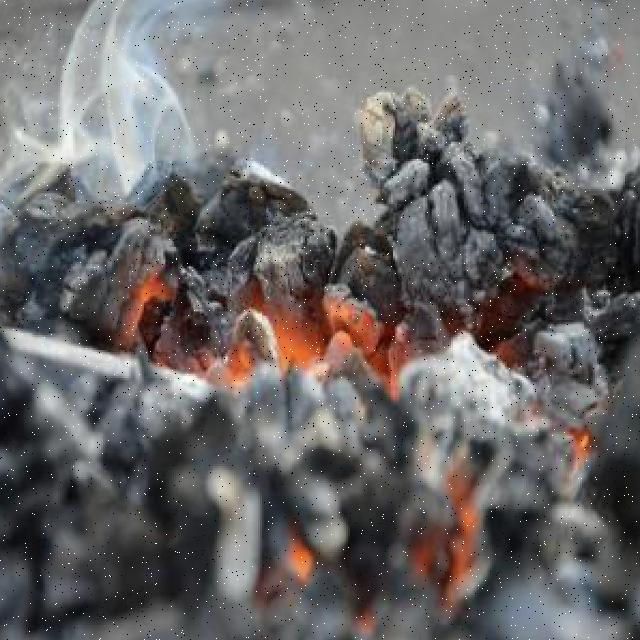smoke: (0, 0, 208, 242)
